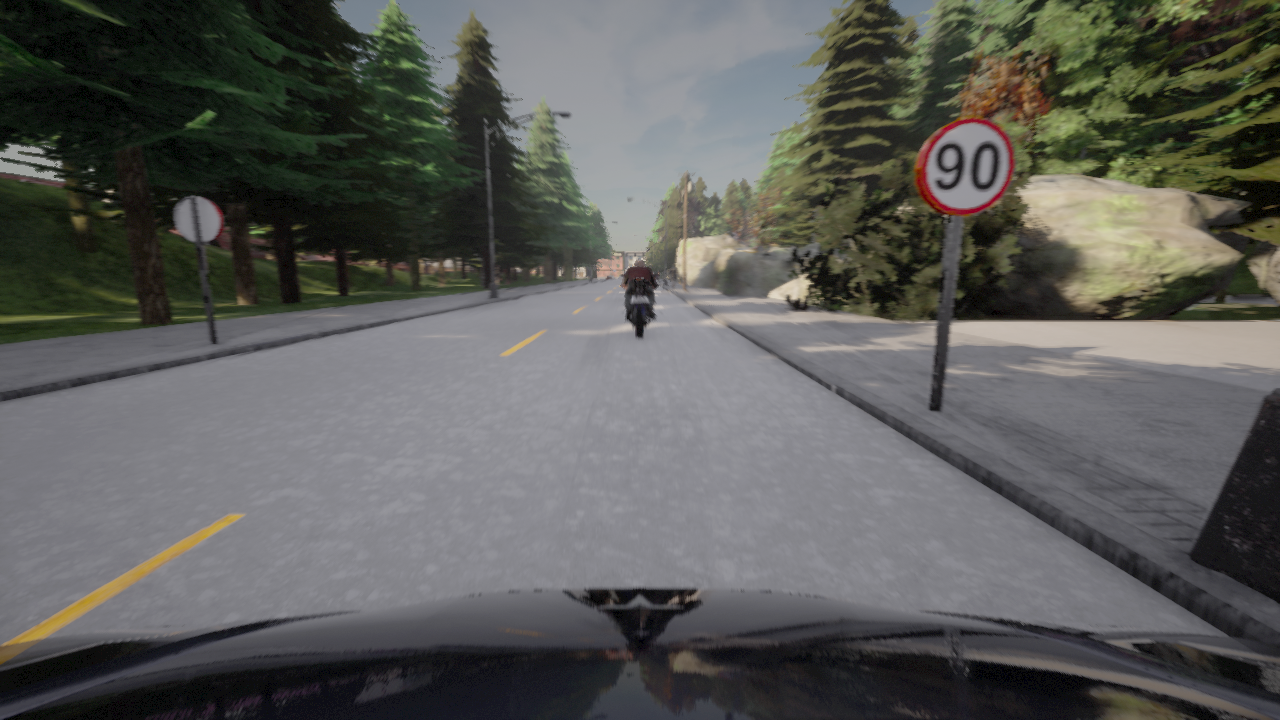cyclist: (0, 588, 1279, 719), (620, 274, 658, 337)
pedestrian: (668, 264, 678, 288)
